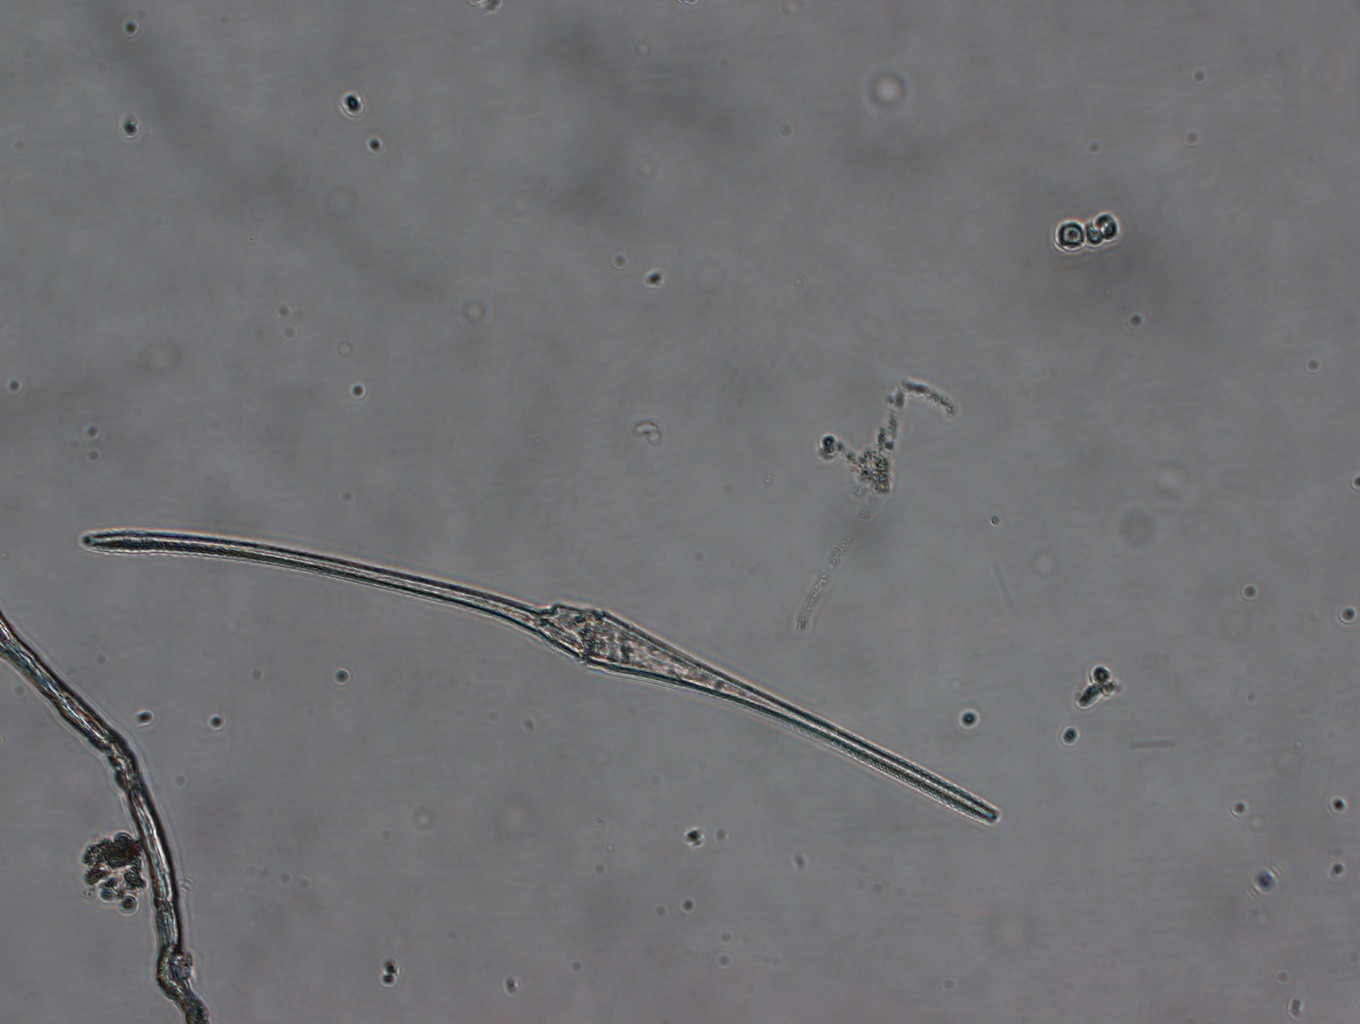ceratium fusus: (80, 528, 1002, 824)
